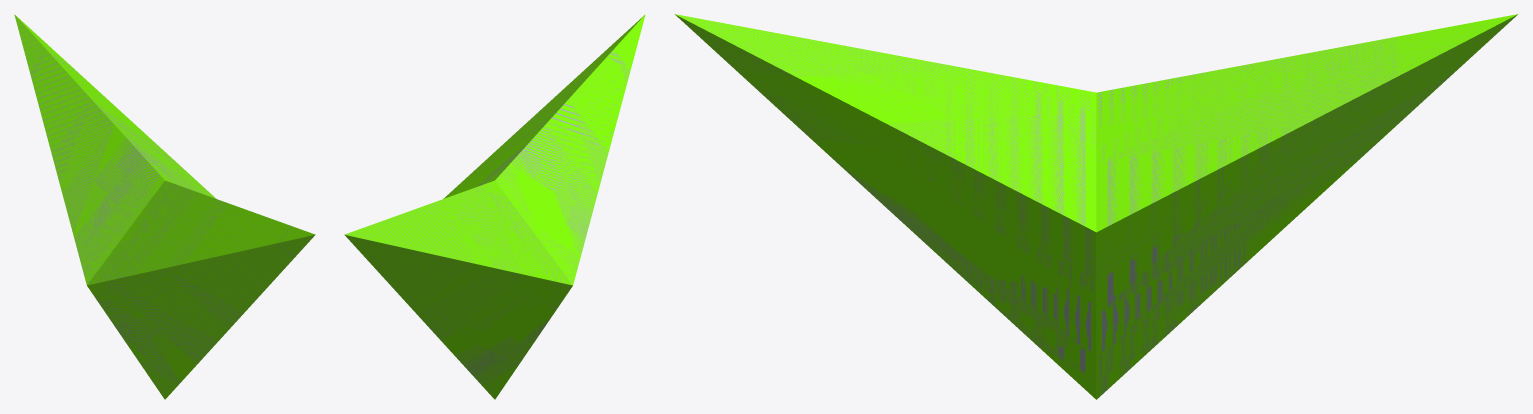
The model's file is Cursor.fbx.
3 views of the same model, side by side, from view 1: azimuth 30°, elevation 25°; view 2: azimuth 150°, elevation 25°; view 3: azimuth 270°, elevation 25° (orthographic). The views are drawn at different scales.
Parts seen in each view (by area): view 1: Model; view 2: Model; view 3: Model.
Boxes of the visible parts, x1,y1,x2,y2 form: Model: [14, 14, 315, 399]; Model: [344, 14, 645, 399]; Model: [674, 14, 1518, 399].
Bounding box in the file's own units: 1.03 × 1.73 × 3.43.
